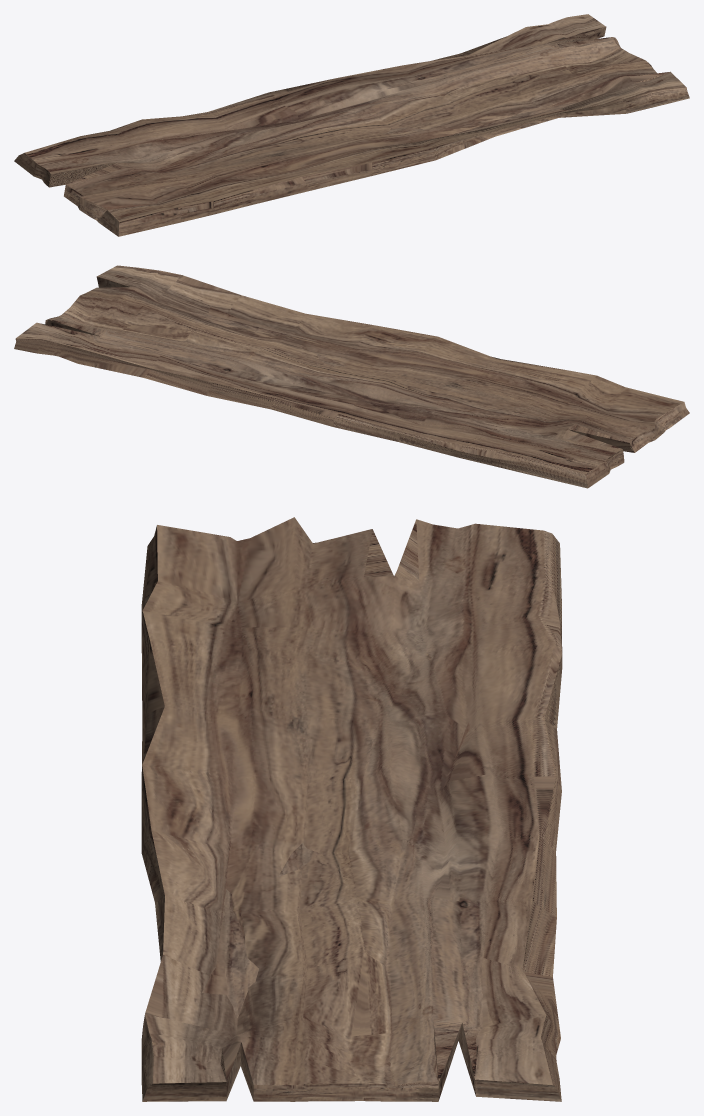
File: Holz.obj
3 views of the same model, one above another, from view 1: azimuth 30°, elevation 25°; view 2: azimuth 150°, elevation 25°; view 3: azimuth 270°, elevation 25° (orthographic). The views are drawn at different scales.
Visible parts, largest first — view 1: W?rfel; view 2: W?rfel; view 3: W?rfel.
Part boxes in pixels (x1,y1,x2,y2): W?rfel: [14, 14, 689, 236]; W?rfel: [14, 265, 689, 488]; W?rfel: [141, 517, 562, 1101].
Bounding box in the file's own units: 345 × 10.28 × 109.
1 material, 1 textured.
